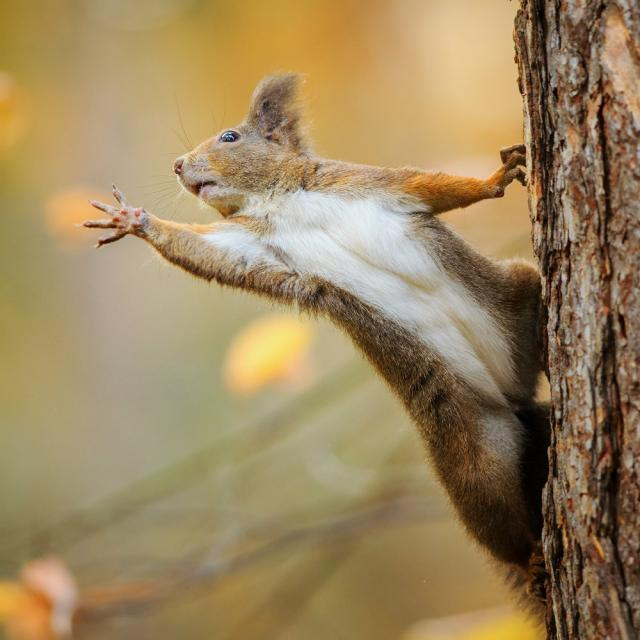Squirrel: (82, 68, 549, 583)
